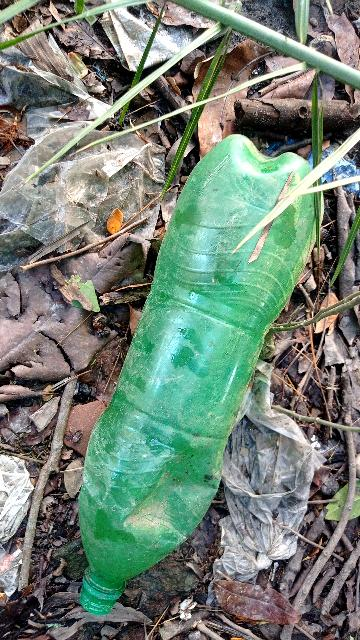bottle: (15, 123, 345, 615)
